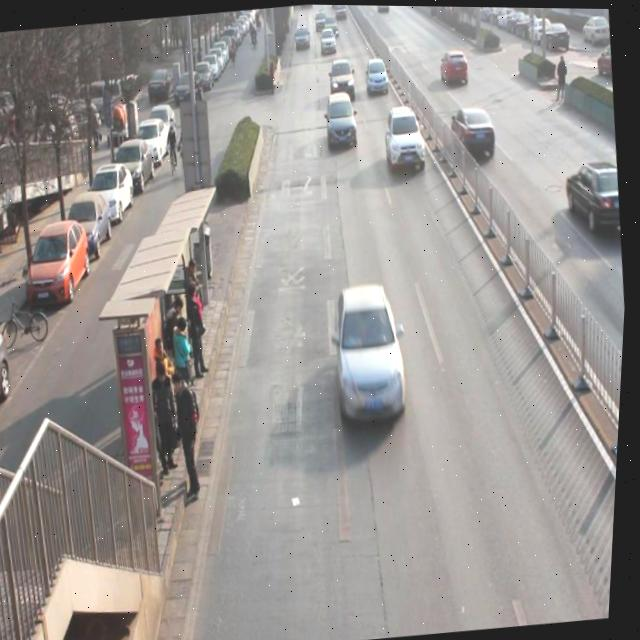car: (329, 280, 417, 428), (565, 156, 626, 237), (381, 104, 430, 174), (449, 104, 501, 160), (321, 92, 363, 152), (439, 47, 472, 89), (328, 58, 360, 99), (365, 56, 393, 98), (291, 22, 313, 55), (317, 28, 340, 55)
